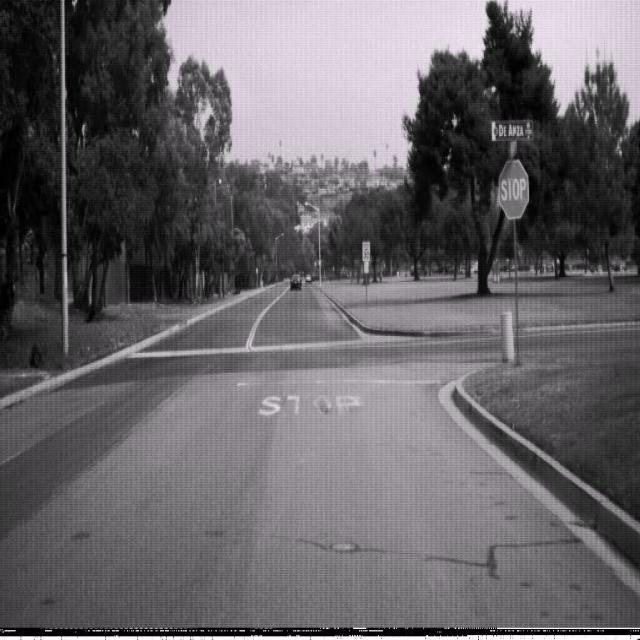stop: (498, 157, 530, 219)
